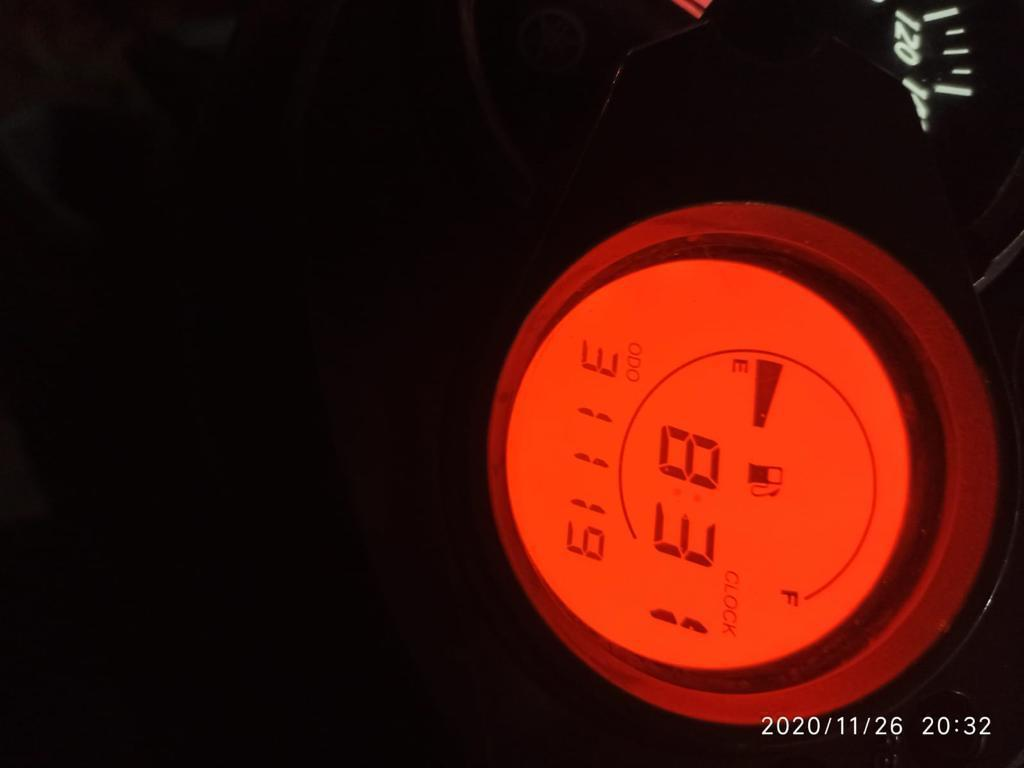1: (648, 606, 708, 634), (576, 405, 613, 423), (573, 451, 609, 469), (569, 497, 605, 514)
3: (652, 501, 716, 567), (580, 338, 619, 378)
8: (658, 424, 720, 489)
9: (566, 519, 604, 561)
X: (779, 589, 799, 607), (731, 357, 748, 374), (724, 570, 739, 585), (722, 609, 737, 623), (627, 341, 642, 355), (723, 594, 737, 608), (625, 368, 639, 382), (626, 354, 641, 367), (722, 622, 736, 635), (724, 583, 737, 592)
odometer: (493, 250, 920, 684)
